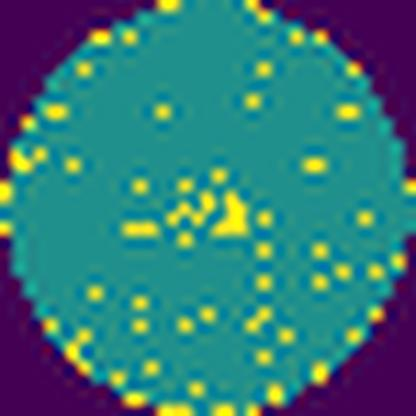Center: (164, 184, 259, 246)
